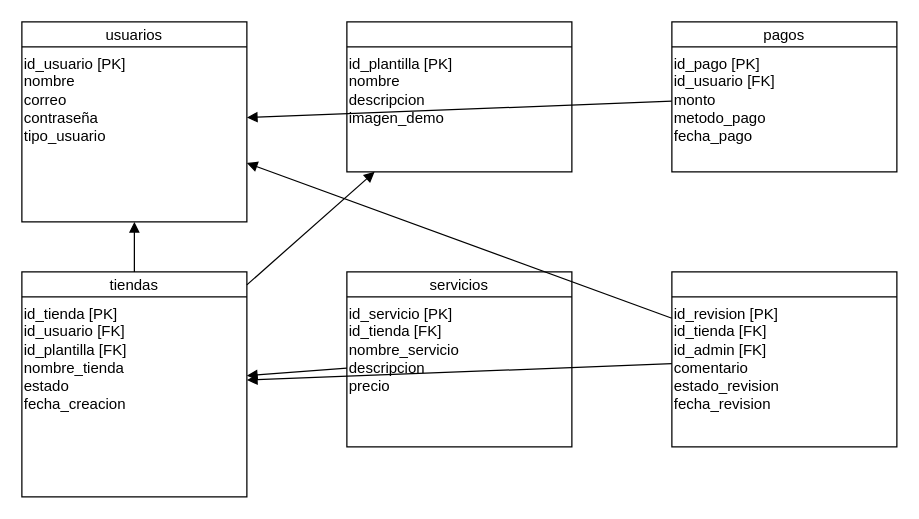
Some shapes in this 919 by 519 pixel diagram are drawn without their labels. The box of each missing label's shape, as (x1, y1, x2, y2) in pixels:
plantillas: (346, 21, 572, 172)
revisiones: (671, 271, 897, 447)
